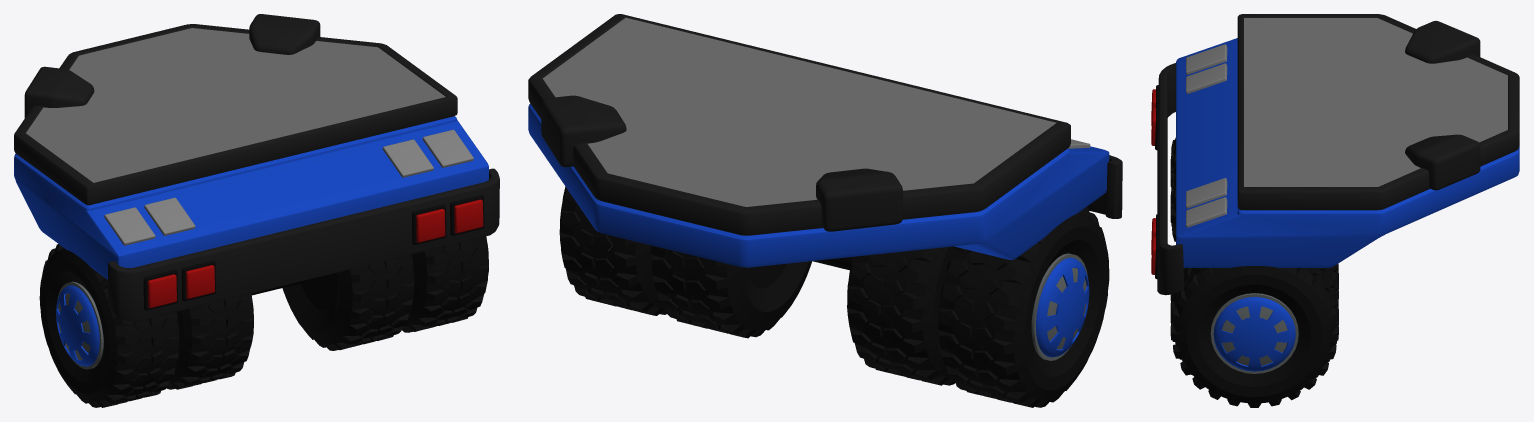
The model's file is FrontPart_1.fbx.
3 renders of one model, left to right at view 1: azimuth 30°, elevation 25°; view 2: azimuth 150°, elevation 25°; view 3: azimuth 270°, elevation 25°, orthographic. The views are drawn at different scales.
Visible parts, largest first — view 1: FrontPart_1, FrontPartWheel; view 2: FrontPart_1, FrontPartWheel; view 3: FrontPart_1, FrontPartWheel.
Part boxes in pixels (box(x1,y1,x2,y2)): FrontPart_1: box(14, 14, 499, 321); FrontPartWheel: box(39, 236, 488, 407); FrontPart_1: box(528, 14, 1122, 267); FrontPartWheel: box(559, 186, 1109, 407); FrontPart_1: box(1151, 14, 1519, 295); FrontPartWheel: box(1170, 137, 1338, 407).
Size of the model in its own units: 331 by 191 by 275.
